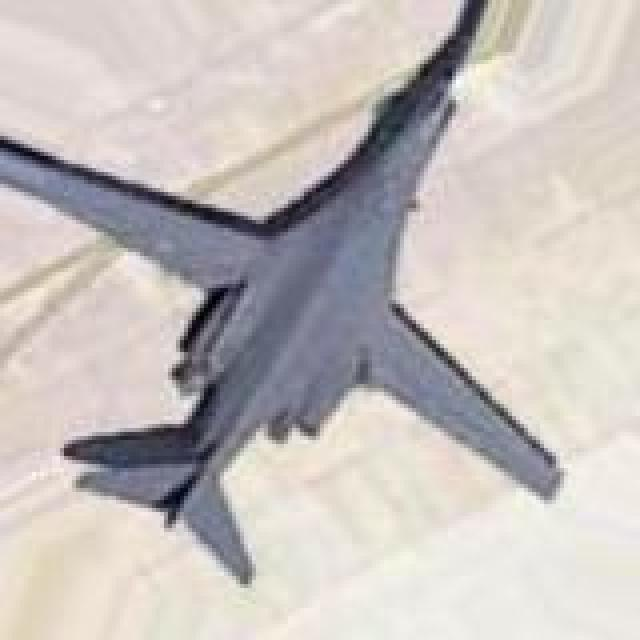B-1_TopDown: (0, 0, 568, 588)
